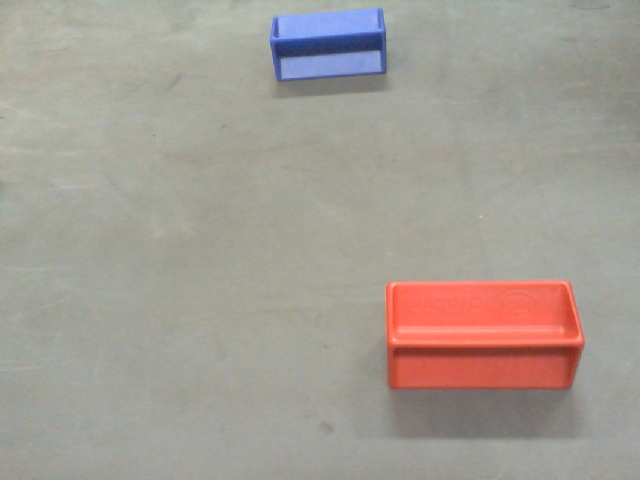BlueSample: (270, 6, 388, 84)
RedSample: (384, 279, 588, 395)
